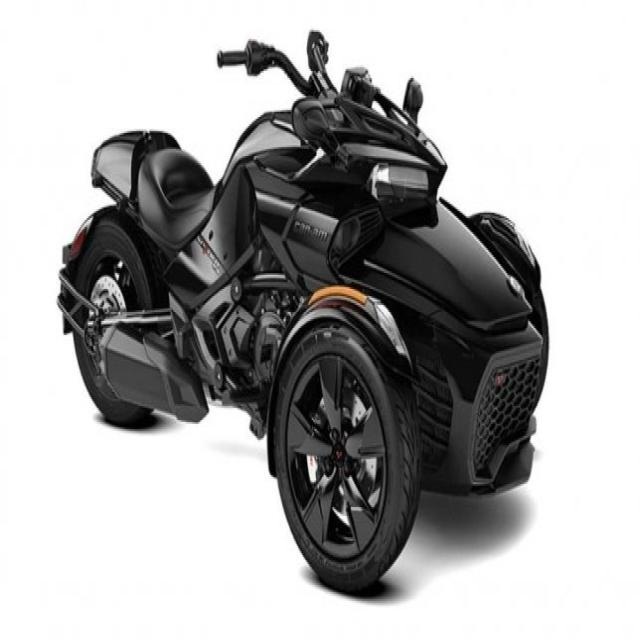Bike: (58, 31, 549, 590)
